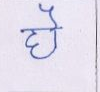ai_matra: (39, 3, 61, 27)
